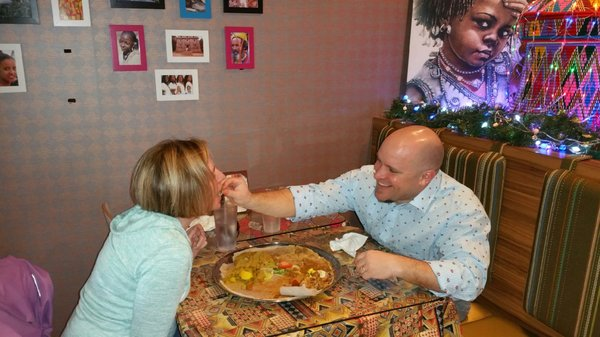pizza: (213, 195, 239, 251)
